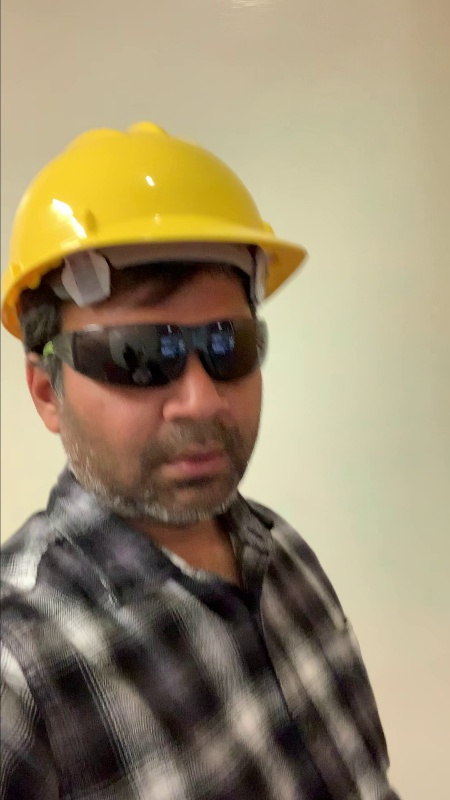glasses: (60, 311, 276, 395)
helmet: (1, 113, 312, 311)
